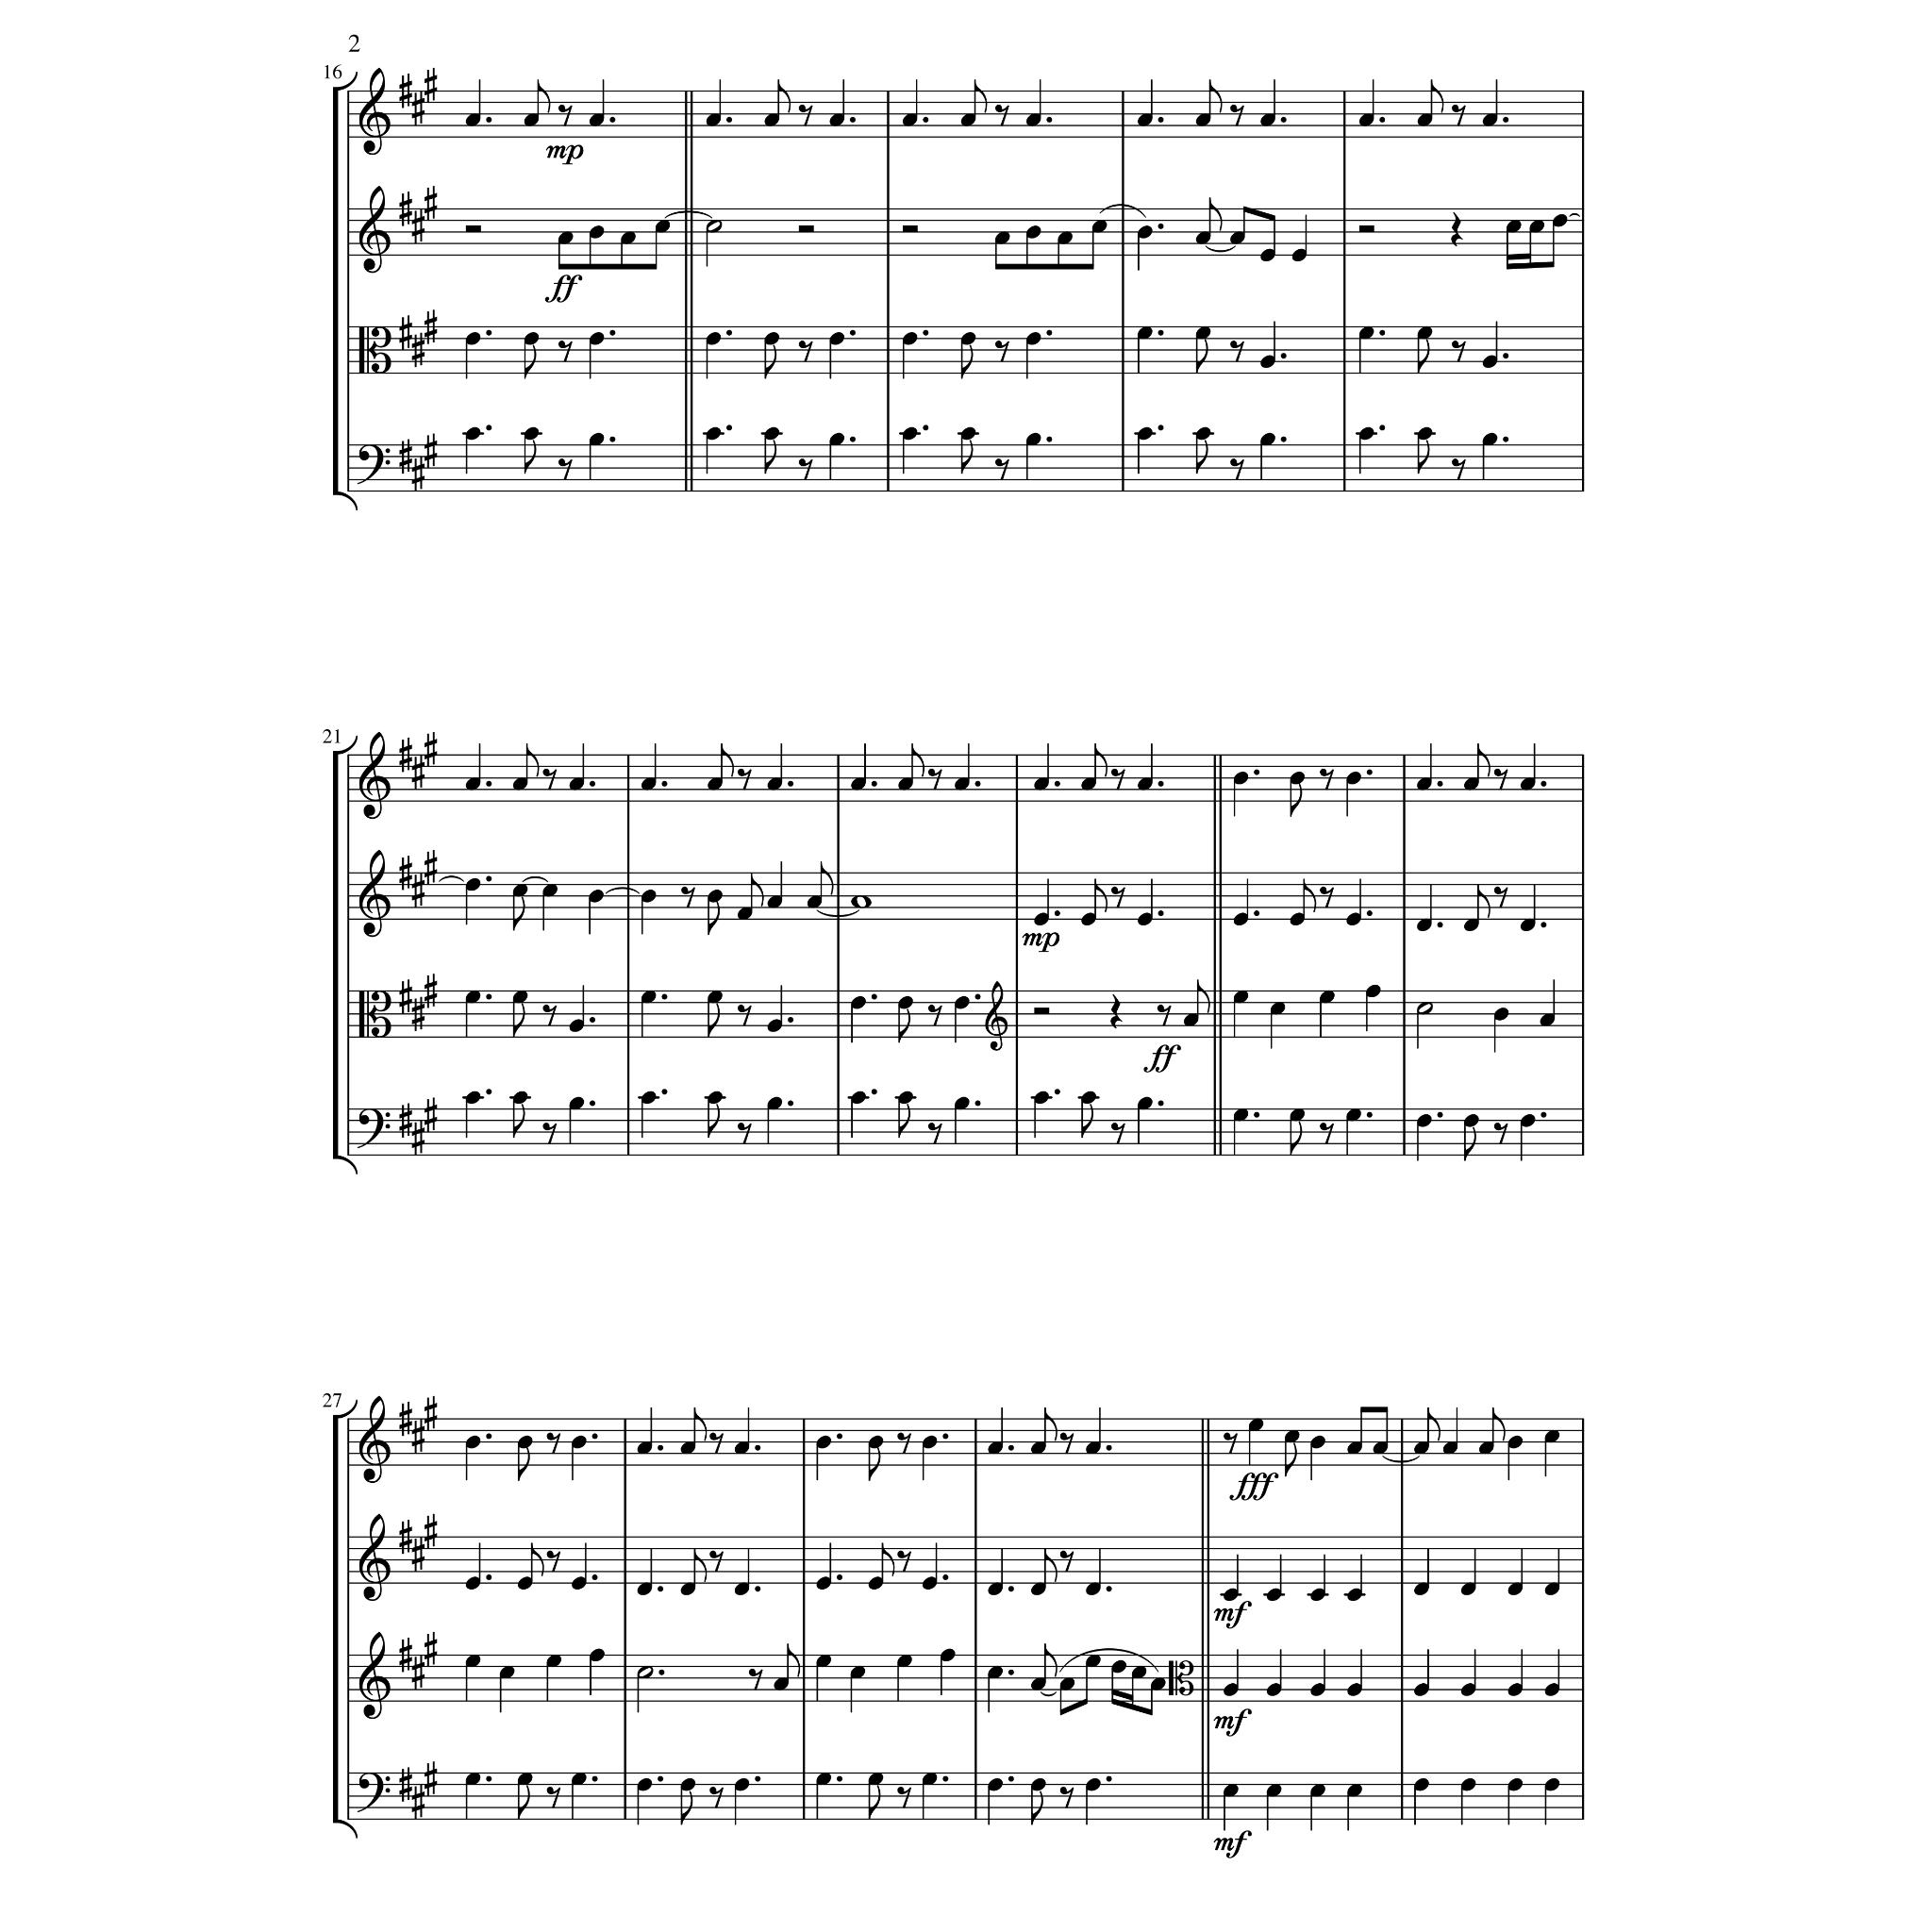fClef: (357, 444, 391, 485), (357, 1108, 391, 1148), (357, 1773, 391, 1813)
flag8thDown: (1196, 439, 1208, 474), (1417, 439, 1430, 474), (524, 439, 536, 474), (961, 439, 973, 474), (764, 439, 777, 474), (1290, 782, 1302, 817), (1290, 1120, 1302, 1155), (513, 1003, 525, 1039), (708, 1003, 720, 1039), (708, 901, 720, 936), (1284, 1442, 1297, 1477), (1196, 340, 1208, 373), (1417, 340, 1430, 373), (524, 345, 536, 379), (961, 345, 973, 379), (764, 345, 777, 379), (1081, 1104, 1093, 1138), (1465, 1127, 1477, 1161), (513, 897, 525, 931), (513, 1104, 525, 1138), (899, 1008, 911, 1042), (899, 1104, 911, 1138), (708, 1104, 720, 1138), (1031, 1790, 1044, 1824), (681, 1790, 694, 1824), (517, 1785, 529, 1819), (517, 1447, 529, 1481), (869, 1447, 881, 1481), (869, 1785, 881, 1819)
flag8thUp: (536, 80, 550, 115), (777, 80, 791, 115), (911, 745, 925, 778), (750, 874, 764, 908), (720, 745, 734, 778), (1044, 1408, 1058, 1442), (1044, 1550, 1058, 1583), (1044, 1644, 1058, 1677), (531, 1543, 545, 1576), (1210, 80, 1223, 115), (1431, 80, 1444, 115), (975, 80, 987, 115), (1210, 198, 1223, 232), (1198, 980, 1210, 1014), (1095, 745, 1108, 778), (1095, 879, 1108, 913), (1477, 745, 1490, 778), (1477, 885, 1490, 918), (1304, 879, 1316, 913), (527, 745, 540, 778), (821, 862, 833, 895), (1493, 1408, 1506, 1442), (1428, 1408, 1440, 1442), (694, 1408, 706, 1442), (694, 1550, 706, 1583), (883, 1543, 895, 1576), (787, 1644, 800, 1677)
gClef: (359, 186, 391, 274), (359, 67, 391, 156), (359, 731, 391, 819), (359, 849, 391, 938), (359, 1631, 391, 1720), (359, 1396, 391, 1484), (359, 1513, 391, 1601)
noteheadBlack: (1056, 232, 1074, 246), (587, 225, 605, 239), (587, 331, 605, 345), (901, 331, 918, 345), (1085, 1582, 1102, 1596), (1085, 1654, 1102, 1668), (1085, 1778, 1102, 1792), (545, 1654, 563, 1668), (1194, 232, 1210, 246), (1194, 326, 1210, 340), (1230, 232, 1246, 246), (1024, 225, 1040, 239), (1024, 331, 1040, 345), (1092, 219, 1108, 234), (1136, 225, 1152, 239), (1136, 326, 1152, 340), (1506, 219, 1522, 234), (1529, 219, 1545, 234), (1552, 214, 1568, 228), (1359, 326, 1375, 340), (1417, 326, 1433, 340), (557, 232, 573, 246), (621, 232, 637, 246), (655, 219, 671, 234), (706, 331, 722, 345), (465, 331, 481, 345), (994, 232, 1010, 246), (961, 331, 977, 345), (764, 331, 780, 345), (828, 331, 844, 345), (1233, 771, 1249, 786), (1233, 913, 1249, 927), (1233, 991, 1249, 1005), (1290, 771, 1306, 786), (1269, 1001, 1284, 1016), (1290, 913, 1306, 927), (1081, 777, 1097, 791), (1081, 913, 1097, 927), (1136, 777, 1152, 791), (1136, 913, 1152, 927), (1136, 1097, 1152, 1111), (1493, 1007, 1509, 1021), (1520, 777, 1536, 791), (1520, 918, 1536, 932), (1463, 777, 1479, 791), (1463, 918, 1479, 932), (1346, 771, 1362, 786), (1346, 913, 1362, 927), (1318, 991, 1334, 1005), (1417, 777, 1433, 791), (1417, 918, 1433, 932), (640, 777, 656, 791), (640, 991, 656, 1005), (568, 777, 584, 791), (568, 1019, 584, 1033), (568, 1097, 584, 1111), (708, 777, 724, 791), (708, 991, 724, 1005), (465, 777, 481, 791), (465, 878, 481, 892), (465, 991, 481, 1005), (541, 883, 557, 897), (1033, 777, 1049, 791), (511, 777, 527, 791), (511, 883, 527, 897), (511, 991, 527, 1005), (897, 777, 913, 791), (897, 996, 913, 1010), (954, 777, 970, 791), (954, 996, 970, 1010), (954, 1097, 970, 1111), (1033, 913, 1049, 927), (766, 777, 782, 791), (766, 1019, 782, 1033), (766, 1097, 782, 1111), (736, 906, 752, 920), (849, 777, 865, 791), (849, 996, 865, 1010), (1150, 1677, 1166, 1691), (1111, 1660, 1127, 1674), (1265, 1783, 1281, 1798), (1265, 1683, 1281, 1697), (1247, 1417, 1263, 1431), (1030, 1778, 1046, 1792), (1030, 1582, 1046, 1596), (1030, 1677, 1046, 1691), (1060, 1677, 1076, 1691), (1507, 1435, 1523, 1449), (1507, 1582, 1523, 1596), (1507, 1683, 1523, 1697), (1507, 1778, 1523, 1792), (1545, 1430, 1560, 1444), (1460, 1582, 1476, 1596), (1460, 1683, 1476, 1697), (1460, 1778, 1476, 1792), (1545, 1582, 1560, 1596), (1545, 1683, 1560, 1697), (1545, 1778, 1560, 1792), (1346, 1683, 1362, 1697), (1346, 1783, 1362, 1798), (1309, 1435, 1325, 1449), (1284, 1430, 1300, 1444), (1309, 1683, 1325, 1697), (1309, 1783, 1325, 1798), (1414, 1683, 1430, 1697), (1414, 1582, 1430, 1596), (1414, 1778, 1430, 1792), (637, 1582, 653, 1596), (637, 1778, 653, 1792), (571, 1435, 587, 1449), (571, 1773, 587, 1787), (679, 1582, 695, 1596), (679, 1778, 695, 1792), (465, 1435, 481, 1449), (465, 1654, 481, 1668), (465, 1773, 481, 1787), (517, 1435, 533, 1449), (517, 1773, 533, 1787), (897, 1654, 913, 1668), (867, 1435, 883, 1449), (867, 1773, 883, 1787), (987, 1582, 1003, 1596), (987, 1778, 1003, 1792), (922, 1773, 938, 1787), (922, 1435, 938, 1449), (773, 1677, 789, 1691), (816, 1435, 832, 1449), (734, 1582, 750, 1596), (734, 1778, 750, 1792), (816, 1654, 832, 1668), (816, 1773, 832, 1787), (587, 113, 605, 126), (587, 433, 605, 446), (901, 113, 918, 126), (901, 428, 918, 441), (587, 890, 605, 902), (1085, 1442, 1102, 1454), (524, 331, 538, 345), (1224, 1683, 1238, 1697), (1224, 1783, 1238, 1798), (1194, 113, 1210, 126), (1194, 428, 1210, 441), (1260, 113, 1276, 126), (1260, 249, 1276, 262), (1260, 356, 1276, 368), (1260, 433, 1276, 446), (1024, 113, 1040, 126), (1024, 433, 1040, 446), (1136, 113, 1152, 126), (1136, 428, 1152, 441), (1481, 113, 1497, 126), (1481, 356, 1497, 368), (1481, 433, 1497, 446), (1292, 249, 1307, 262), (1359, 113, 1375, 126), (1359, 428, 1375, 441), (1417, 428, 1433, 441), (1417, 113, 1433, 126), (706, 428, 722, 441), (706, 113, 722, 126), (465, 113, 481, 126), (465, 428, 481, 441), (961, 113, 977, 126), (961, 428, 977, 441), (764, 113, 780, 126), (764, 428, 780, 441), (828, 113, 844, 126), (828, 433, 844, 446), (1233, 1109, 1249, 1122), (1184, 1014, 1200, 1026), (1290, 1109, 1306, 1122), (1033, 1092, 1049, 1104), (1081, 1092, 1097, 1104), (1520, 1115, 1536, 1127), (1463, 1115, 1479, 1127), (1539, 1014, 1555, 1026), (1346, 1109, 1362, 1122), (1417, 1115, 1433, 1127), (640, 890, 656, 902), (640, 1092, 656, 1104), (708, 890, 724, 902), (708, 1092, 724, 1104), (465, 1092, 481, 1104), (511, 1092, 527, 1104), (897, 1092, 913, 1104), (849, 1092, 865, 1104), (766, 895, 782, 908), (807, 895, 823, 908), (1131, 1667, 1146, 1679), (1265, 1589, 1281, 1601), (1030, 1442, 1046, 1454), (1442, 1442, 1458, 1454), (1479, 1442, 1495, 1454), (1346, 1442, 1362, 1454), (1346, 1589, 1362, 1601), (1309, 1589, 1325, 1601), (1373, 1442, 1389, 1454), (1414, 1442, 1430, 1454), (589, 1649, 605, 1661), (637, 1442, 653, 1454), (571, 1576, 587, 1589), (679, 1442, 695, 1454), (465, 1576, 481, 1589), (499, 1667, 515, 1679), (517, 1576, 533, 1589), (849, 1667, 865, 1679), (867, 1576, 883, 1589), (939, 1649, 955, 1661), (987, 1442, 1003, 1454), (987, 1667, 1003, 1679), (922, 1576, 938, 1589), (734, 1442, 750, 1454), (816, 1576, 832, 1589), (524, 113, 538, 126), (524, 428, 538, 441), (1366, 985, 1380, 998), (1224, 1589, 1238, 1601)
noteheadHalf: (704, 219, 722, 234), (1415, 1001, 1433, 1016), (637, 1667, 655, 1679)
noteheadWhole: (849, 895, 870, 909)
rest8th: (1451, 104, 1467, 127), (1451, 340, 1467, 363), (1451, 458, 1467, 481), (557, 340, 573, 363), (557, 458, 573, 481), (557, 104, 573, 127), (994, 104, 1010, 127), (994, 340, 1010, 363), (994, 458, 1010, 481), (798, 104, 814, 127), (798, 340, 814, 363), (798, 458, 814, 481), (1493, 886, 1509, 909), (1318, 886, 1334, 909), (679, 886, 695, 909), (541, 1005, 557, 1028), (927, 1005, 943, 1028), (736, 1005, 752, 1028), (1223, 1431, 1238, 1454), (708, 1431, 724, 1454), (708, 1550, 724, 1573), (708, 1785, 724, 1808), (1493, 1123, 1509, 1145), (1493, 770, 1509, 791), (1318, 1123, 1334, 1145), (1318, 770, 1334, 791), (541, 770, 557, 791), (541, 1123, 557, 1145), (927, 770, 943, 791), (927, 1123, 943, 1145), (736, 1123, 752, 1145), (736, 770, 752, 791), (1230, 104, 1244, 127), (1230, 340, 1244, 363), (1230, 458, 1244, 481), (1157, 1005, 1171, 1028), (1111, 886, 1125, 909), (1060, 1785, 1074, 1808), (1060, 1431, 1074, 1454), (1060, 1550, 1074, 1573), (547, 1431, 561, 1454), (547, 1550, 561, 1573), (547, 1785, 561, 1808), (897, 1431, 911, 1454), (897, 1550, 911, 1573), (897, 1785, 911, 1808), (748, 1668, 763, 1691), (1111, 770, 1125, 791), (1111, 1123, 1125, 1145)
restHalf: (901, 225, 918, 234), (1359, 225, 1375, 234), (465, 225, 481, 234), (798, 225, 814, 234), (1033, 1007, 1049, 1016)
restQuarter: (1109, 993, 1123, 1030), (1451, 211, 1463, 248)
